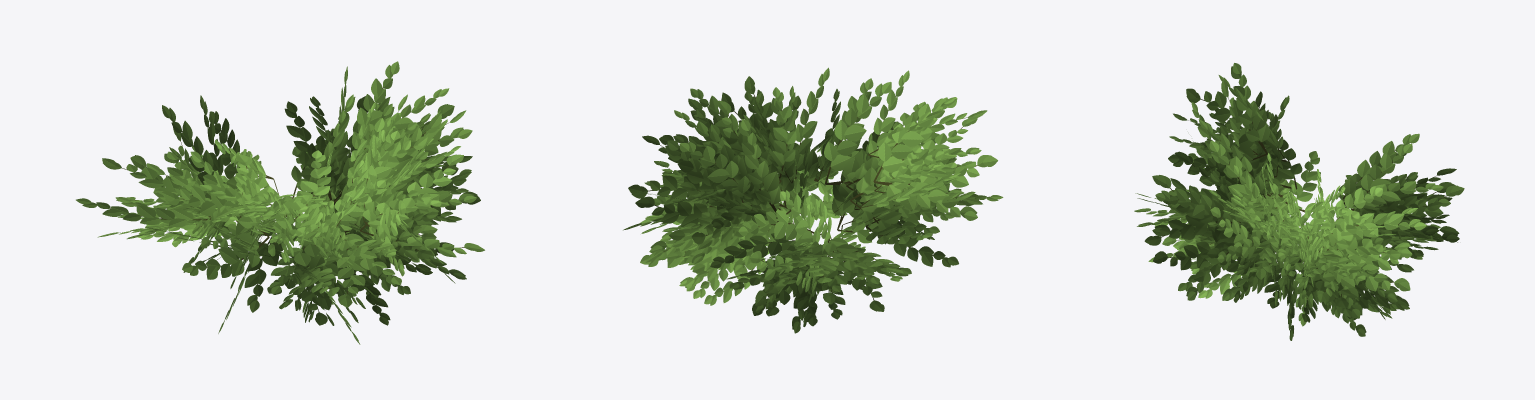
Rendered from bush_2_mid.glb.
The picture shows the model from 3 angles, left to right: view 1: azimuth 30°, elevation 25°; view 2: azimuth 150°, elevation 25°; view 3: azimuth 270°, elevation 25°; orthographic projection. The views are drawn at different scales.
Visible parts, largest first — view 1: bush_2_mid; view 2: bush_2_mid; view 3: bush_2_mid.
Part boxes in pixels (bbox=[...]): bush_2_mid: bbox=[76, 61, 484, 344]; bush_2_mid: bbox=[623, 67, 1003, 333]; bush_2_mid: bbox=[1134, 63, 1464, 340].
Size of the model in its own units: 3.43 by 2.13 by 3.52.
1 material, 1 textured.
